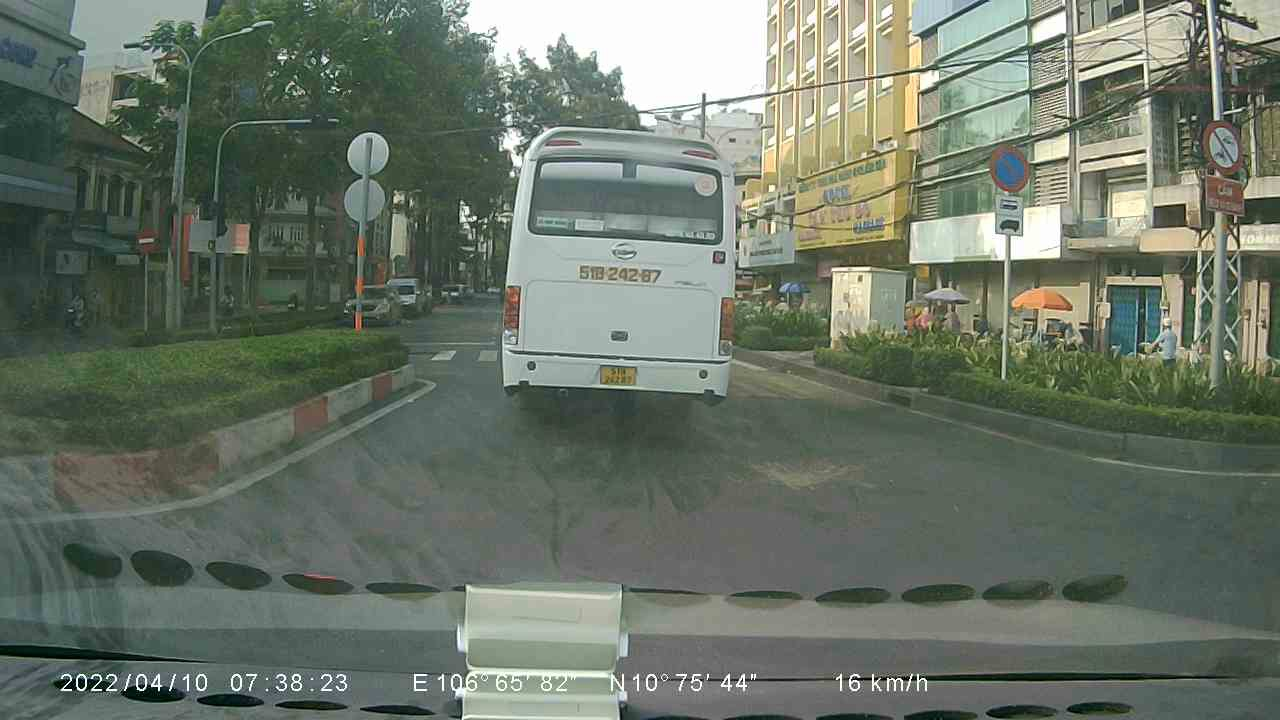Bien khac: (1200, 116, 1248, 176)
Cam do xe: (986, 138, 1036, 194)
